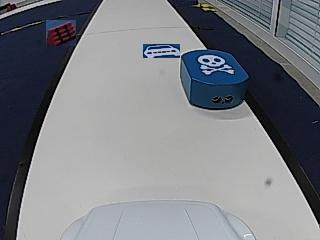danger: (198, 54, 234, 75)
